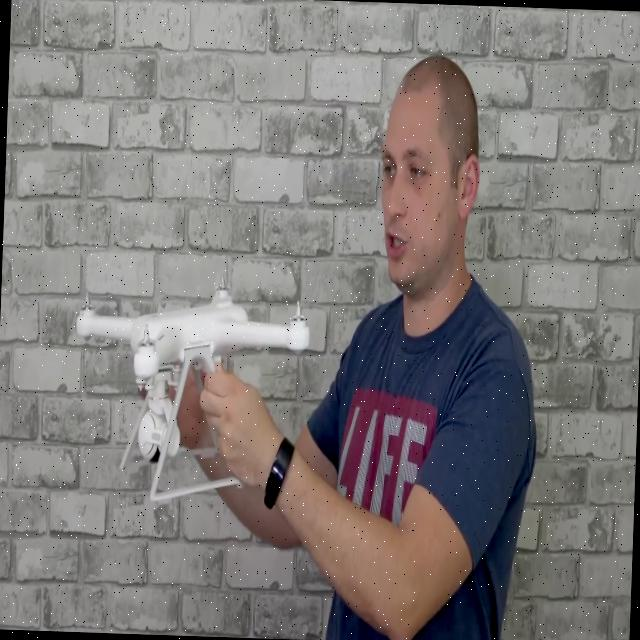drone: (53, 271, 323, 537)
